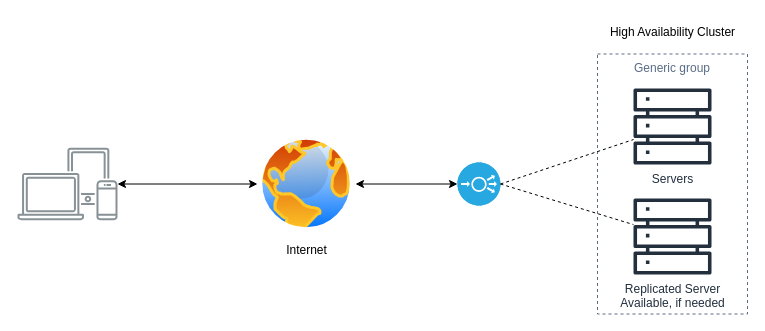
Image size: 765x331. Some labels were removed from this diagram. Each missing label, with the centre of its shape:
"Devices" goes at pixel 67 183.
"Load Balancer" goes at pixel 478 184.
